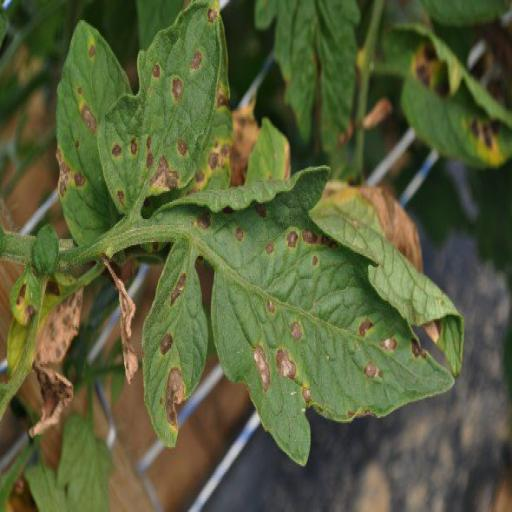disease_tomato: (139, 158, 465, 470), (99, 4, 231, 220), (378, 8, 512, 175), (53, 10, 135, 246)
